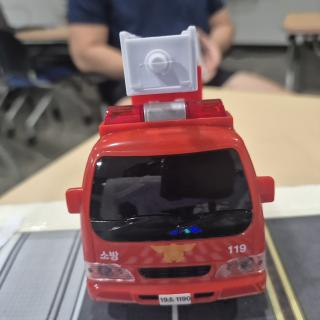Fire_truck: (66, 26, 275, 306)
